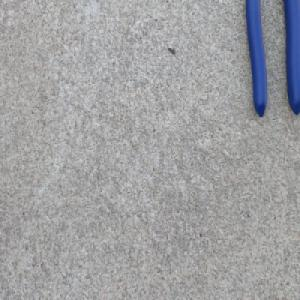Pliers: (244, 0, 300, 118)
